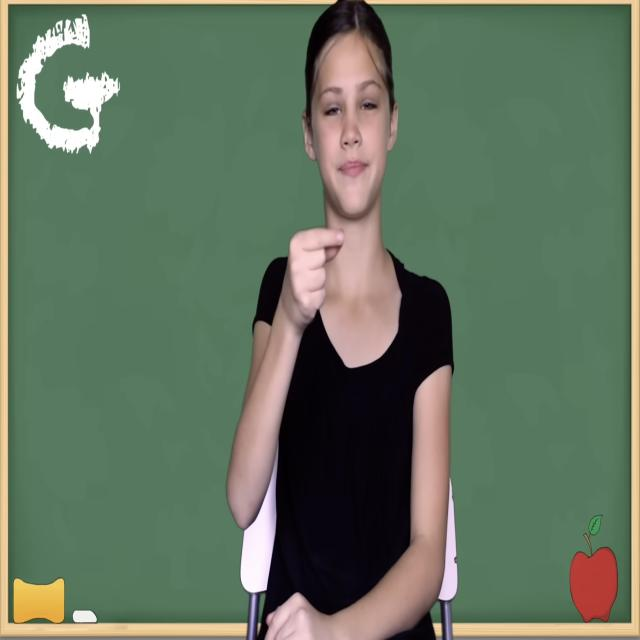G: (270, 217, 354, 344)
